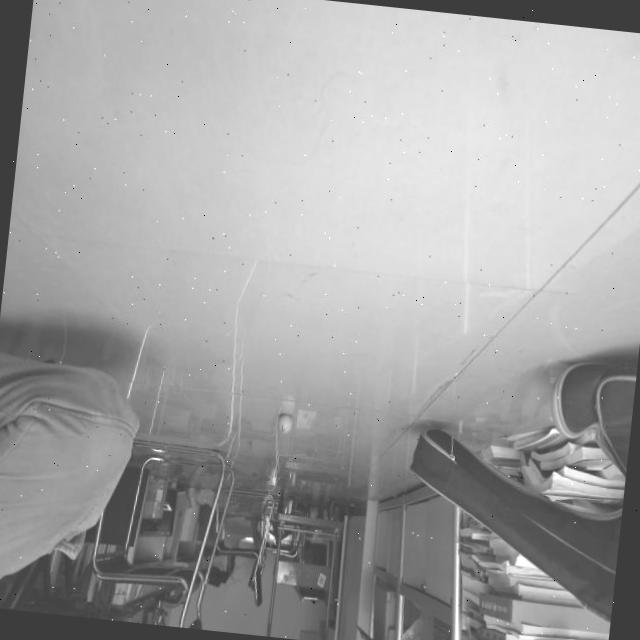ping-pong-ball: (276, 412, 292, 432)
